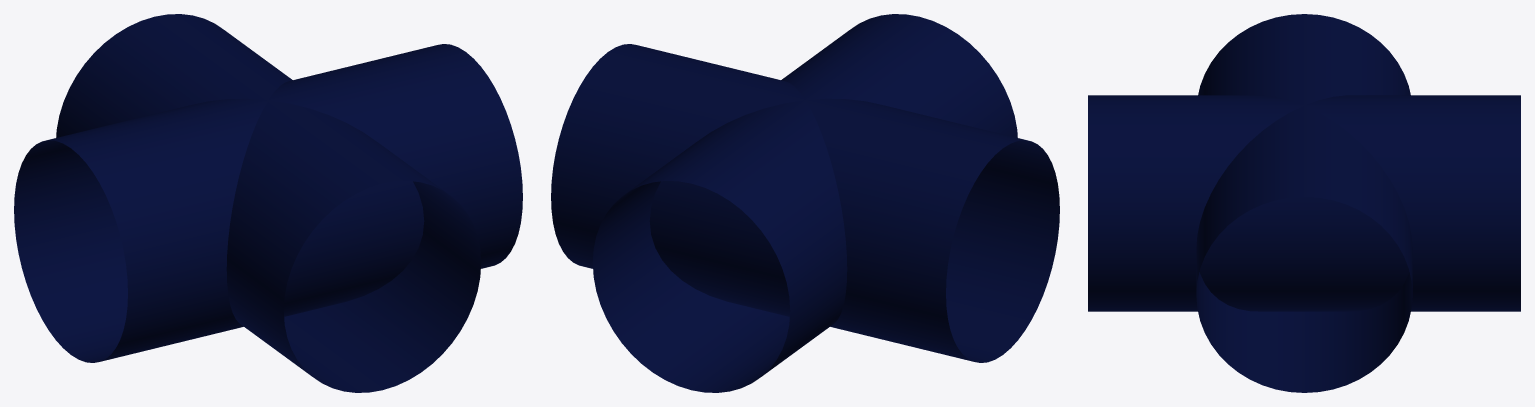
The model's file is pipeEveryDirWtexture.fbx.
3 renders of one model, left to right at view 1: azimuth 30°, elevation 25°; view 2: azimuth 150°, elevation 25°; view 3: azimuth 270°, elevation 25°, orthographic. The views are drawn at different scales.
Visible parts, largest first — view 1: NurbsPath.001; view 2: NurbsPath.001; view 3: NurbsPath.001.
Part boxes in pixels (<box>): NurbsPath.001: <box>14,14,522,392</box>; NurbsPath.001: <box>551,14,1059,392</box>; NurbsPath.001: <box>1088,14,1520,392</box>.
Size of the model in its own units: 100 by 50 by 100.
